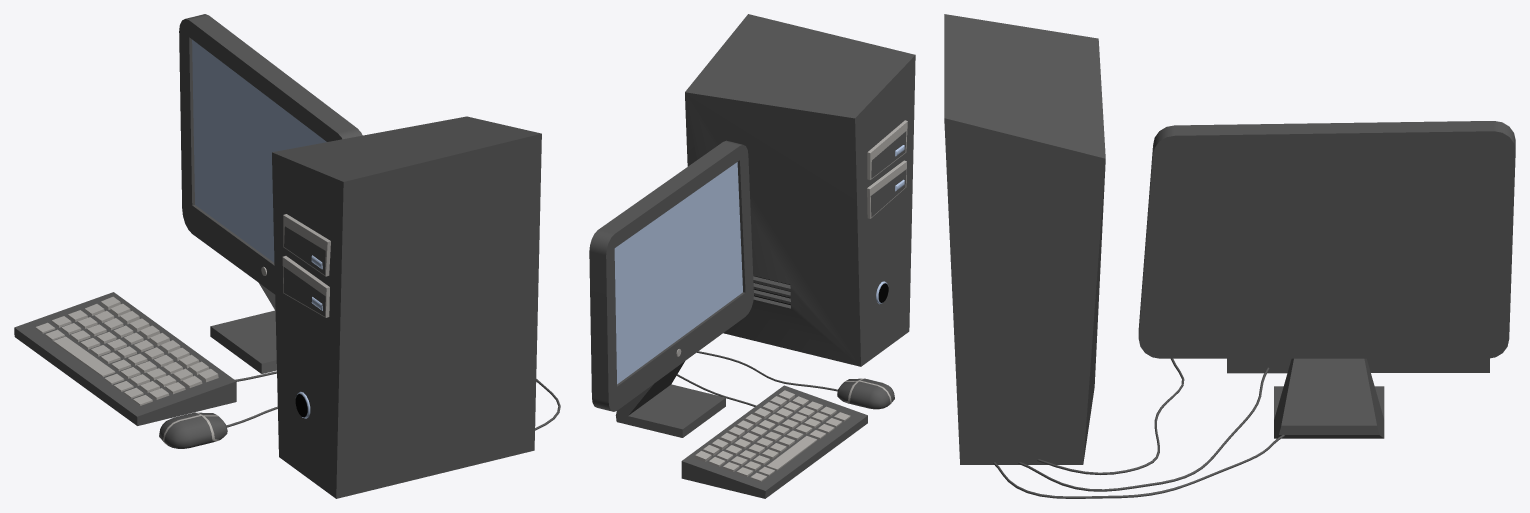
The model's file is computer.fbx.
3 views of the same model, side by side, from view 1: azimuth 30°, elevation 25°; view 2: azimuth 150°, elevation 25°; view 3: azimuth 270°, elevation 25° (orthographic). The views are drawn at different scales.
Parts seen in each view (by area): view 1: computer11; view 2: computer11; view 3: computer11.
Boxes of the visible parts, x1,y1,x2,y2 form: computer11: [14, 14, 560, 498]; computer11: [589, 14, 915, 498]; computer11: [944, 14, 1515, 498].
Size of the model in its own units: 191 by 170 by 254.
